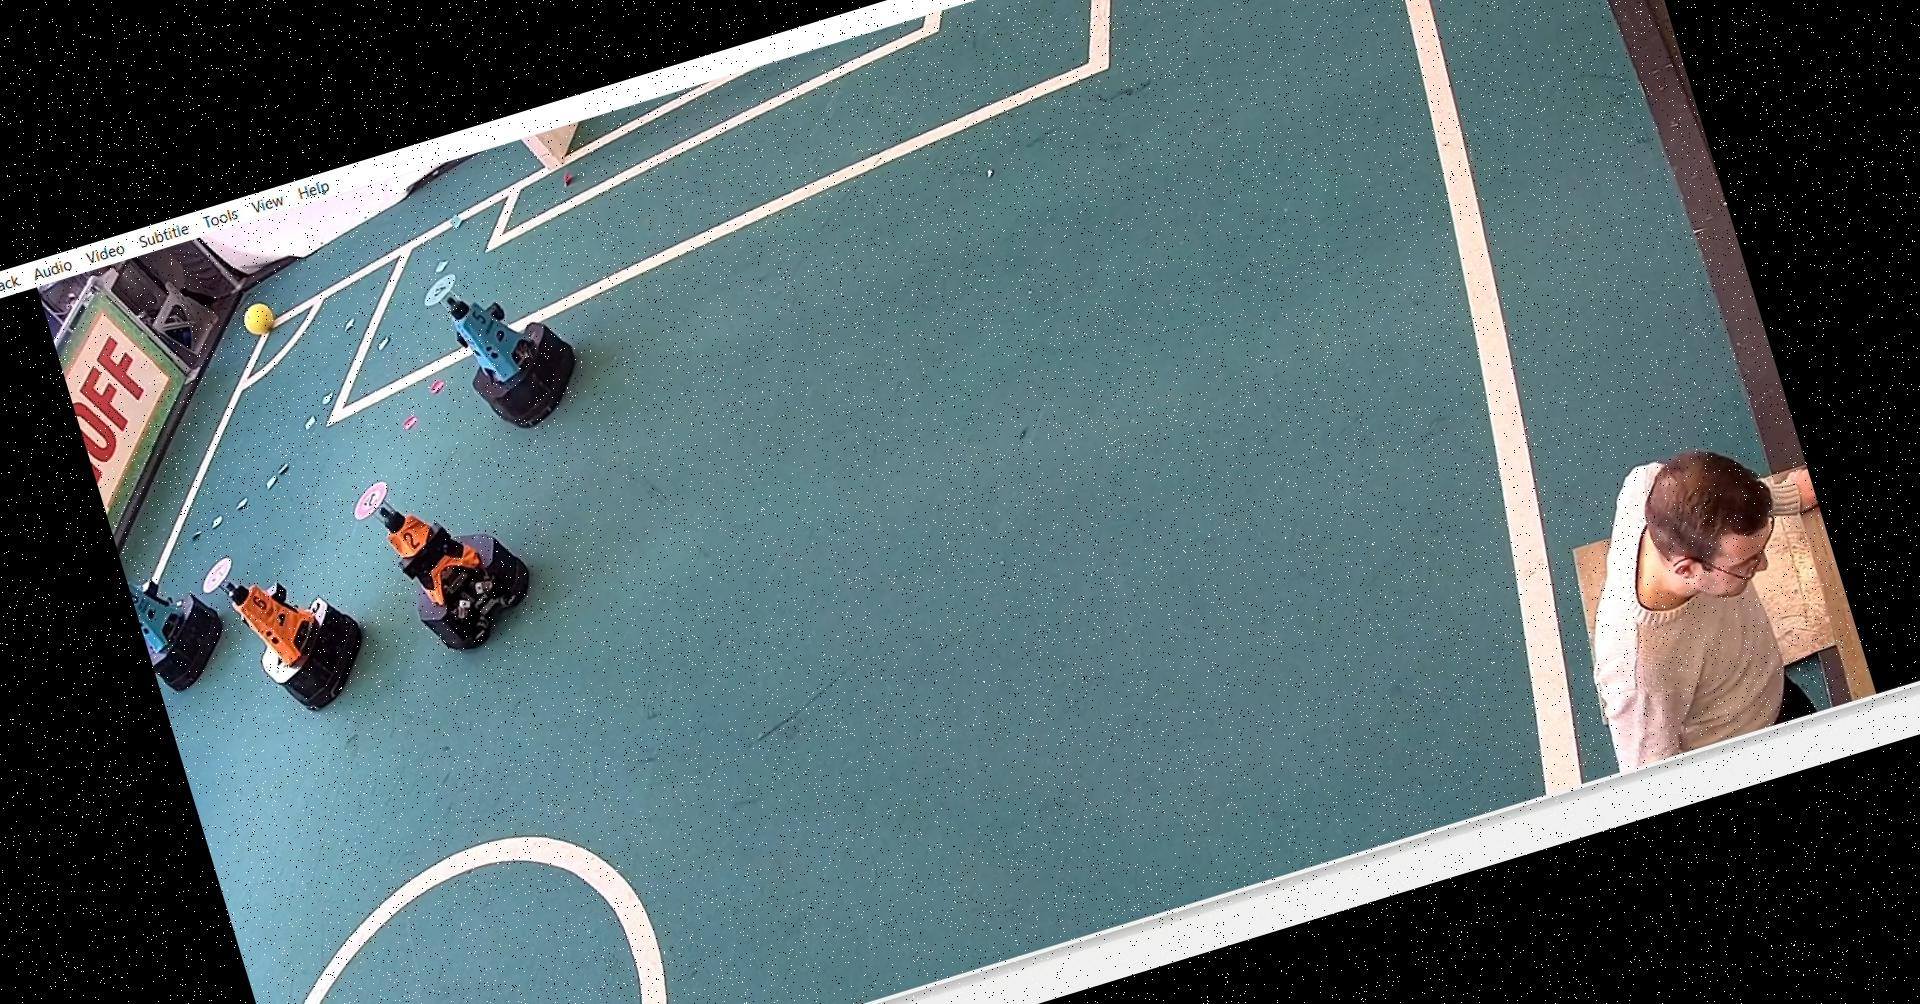Ball: (237, 296, 282, 338)
Team_Blue: (405, 234, 598, 449), (122, 537, 255, 698)
Team_Red: (340, 435, 550, 671), (196, 523, 375, 729)
